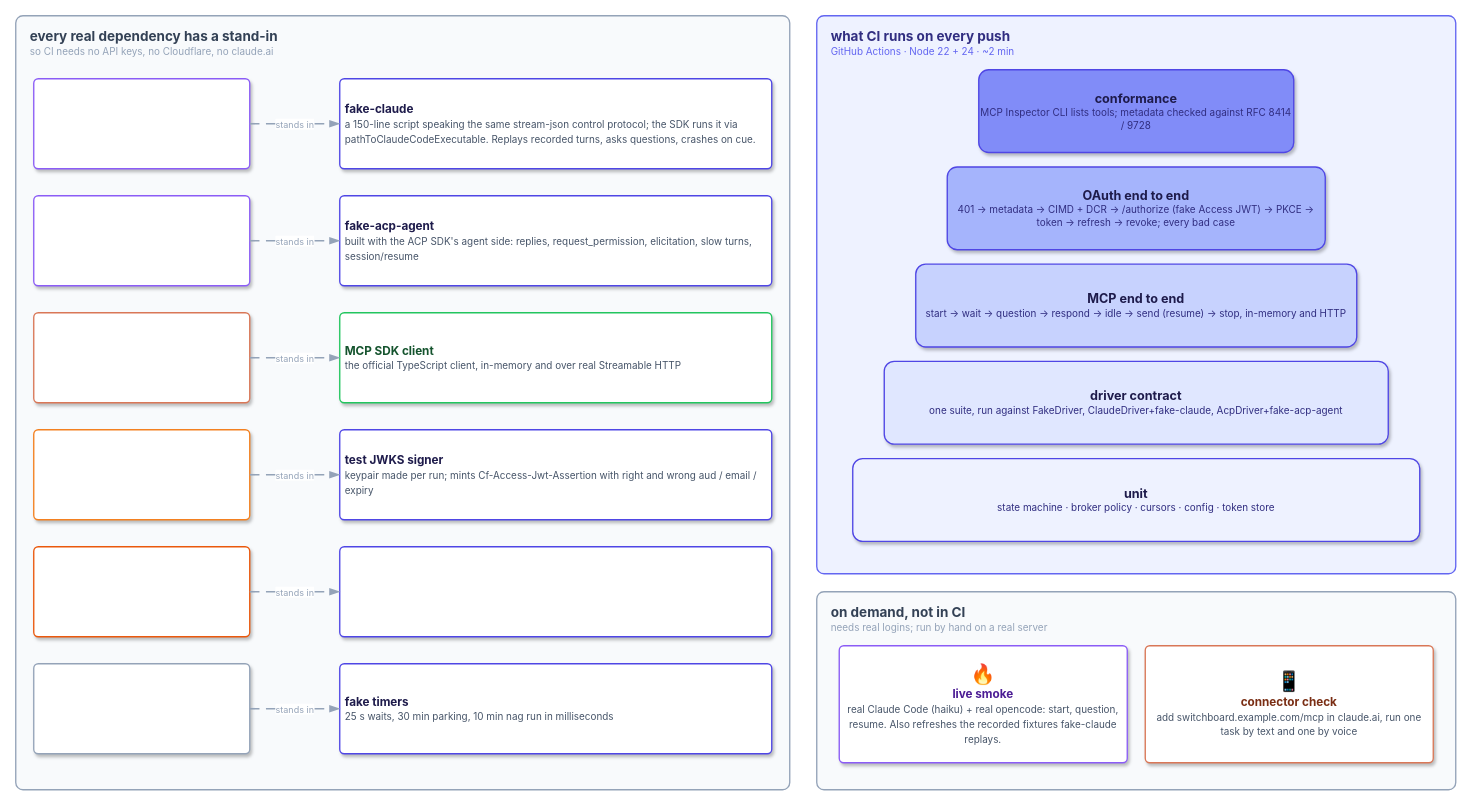
Some shapes in this 1472 by 806 pixel diagram are drawn without their labels. Each missing label, with the centre of its shape:
capture server local HTTP endpoint that records notifications: (x=556, y=592)
⏱️ the clock: (x=142, y=709)
✨ claude.ai connector: (x=142, y=358)
📨 Telegram: (x=142, y=592)
🛡️ Cloudflare Access: (x=142, y=475)
🤖 Claude Code CLI: (x=142, y=124)
🧩 OpenCode / any ACP agent: (x=142, y=241)
